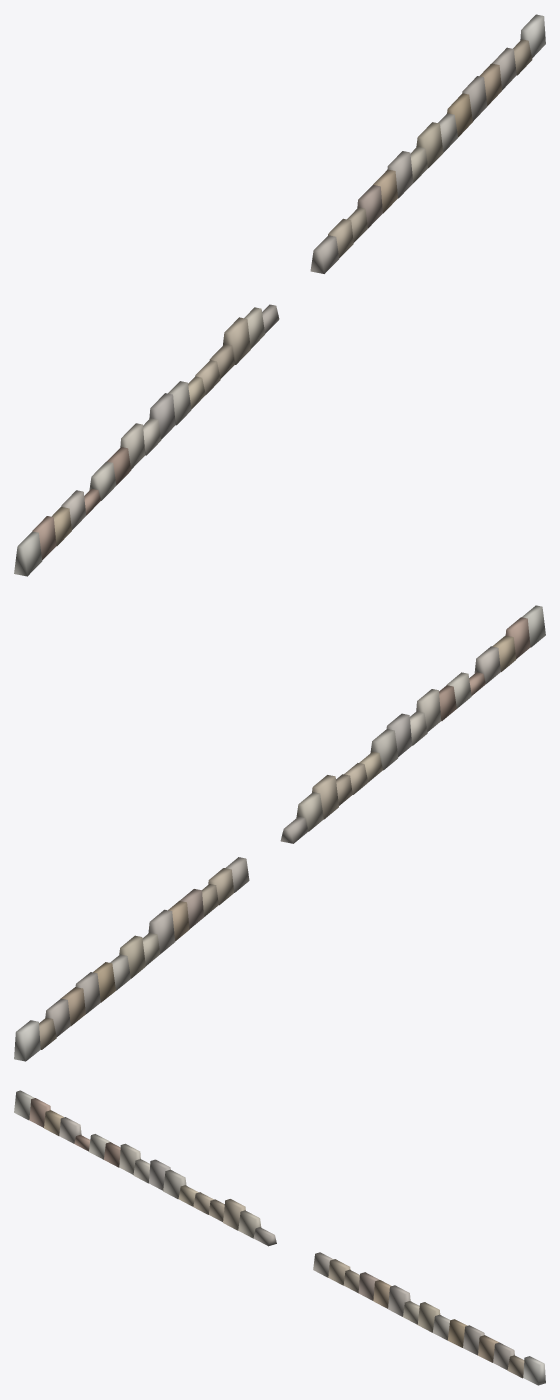
The model's file is farm_-4_-5_collision.glb.
3 views of the same model, one above another, from view 1: azimuth 30°, elevation 25°; view 2: azimuth 210°, elevation 25°; view 3: azimuth 270°, elevation 25° (orthographic). The views are drawn at different scales.
Visible parts, largest first — view 1: geometry_0; view 2: geometry_0; view 3: geometry_0.
Boxes of the visible parts, x1=… form: geometry_0: x1=14, y1=14, x2=545, y2=576; geometry_0: x1=14, y1=605, x2=545, y2=1061; geometry_0: x1=14, y1=1090, x2=545, y2=1385.
Bounding box in the file's own units: 45.93 × 3.99 × 32.89.
